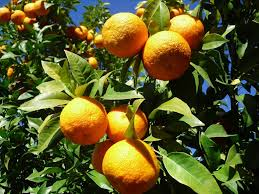orange: (103, 139, 163, 190), (141, 31, 193, 80), (58, 96, 108, 145), (103, 11, 147, 60), (107, 106, 151, 140), (165, 13, 207, 47)
